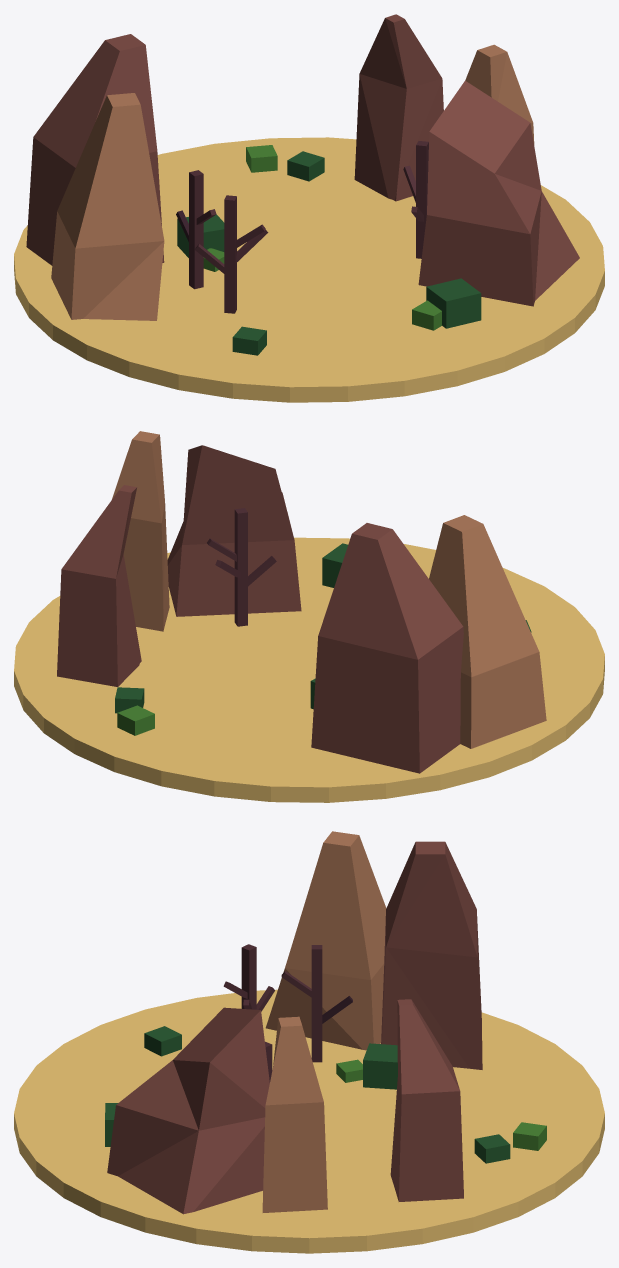
Rendered from MapMountain.fbx.
3 renders of one model, top to bottom at view 1: azimuth 30°, elevation 25°; view 2: azimuth 150°, elevation 25°; view 3: azimuth 270°, elevation 25°, orthographic.
Parts seen in each view (by area): view 1: BASE, Cube.097, Cube.098, Cube.095, Cube.099, Cube.096, Cube.080, Cube.108, Cube.084, Cube.091, Cube.081, Cube.078 (+3 smaller); view 2: BASE, Cube.099, Cube.097, Cube.098, Cube.095, Cube.096, Cube.091, Cube.077, Cube.080, Cube.078; view 3: BASE, Cube.097, Cube.099, Cube.098, Cube.095, Cube.096, Cube.081, Cube.108, Cube.084, Cube.076, Cube.078, Cube.077.
Boxes of the visible parts, left/top/right/bottom form: BASE: left=14, top=137, right=604, bottom=402; Cube.097: left=418, top=80, right=579, bottom=306; Cube.098: left=51, top=93, right=164, bottom=320; Cube.095: left=354, top=14, right=443, bottom=201; Cube.099: left=26, top=34, right=164, bottom=265; Cube.096: left=465, top=44, right=534, bottom=144; Cube.080: left=426, top=278, right=481, bottom=328; Cube.108: left=189, top=170, right=203, bottom=289; Cube.084: left=224, top=195, right=236, bottom=313; Cube.091: left=416, top=141, right=428, bottom=258; Cube.081: left=177, top=214, right=224, bottom=257; Cube.078: left=287, top=151, right=324, bottom=181; BASE: left=14, top=537, right=604, bottom=802; Cube.099: left=311, top=523, right=463, bottom=773; Cube.097: left=167, top=445, right=301, bottom=616; Cube.098: left=429, top=515, right=546, bottom=748; Cube.095: left=57, top=485, right=141, bottom=686; Cube.096: left=112, top=431, right=169, bottom=631; Cube.091: left=234, top=508, right=247, bottom=626; Cube.077: left=117, top=705, right=154, bottom=735; Cube.080: left=322, top=543, right=347, bottom=587; Cube.078: left=115, top=687, right=144, bottom=713; BASE: left=14, top=989, right=604, bottom=1253; Cube.097: left=107, top=1007, right=269, bottom=1214; Cube.099: left=381, top=841, right=482, bottom=1069; Cube.098: left=265, top=831, right=386, bottom=1050; Cube.095: left=390, top=999, right=463, bottom=1201; Cube.096: left=262, top=1016, right=327, bottom=1212; Cube.081: left=363, top=1043, right=397, bottom=1089; Cube.108: left=311, top=945, right=322, bottom=1062; Cube.084: left=241, top=944, right=256, bottom=1009; Cube.076: left=144, top=1026, right=181, bottom=1056; Cube.078: left=474, top=1134, right=510, bottom=1163; Cube.077: left=513, top=1122, right=546, bottom=1150.
Bounding box in the file's own units: 1175 × 1175 × 490.
1 material, 1 textured.
